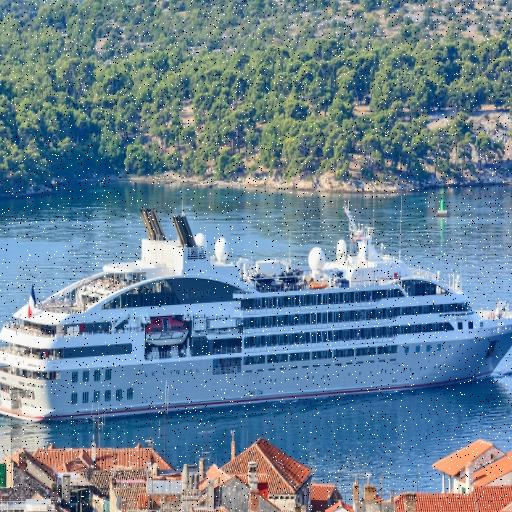cruises: (1, 205, 512, 428)
